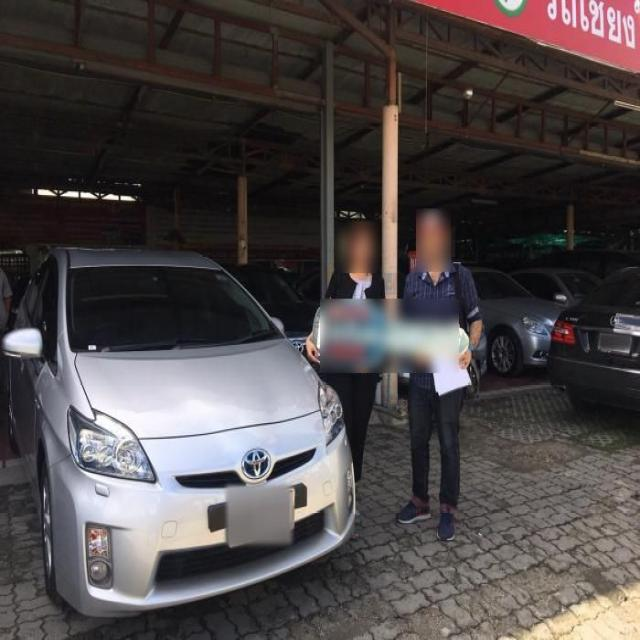front_bumper: (47, 411, 356, 619)
front_glass: (66, 265, 286, 351)
front_left_light: (320, 379, 344, 446)
front_right_door: (15, 253, 61, 488)
front_right_light: (67, 404, 157, 483)
hood: (74, 340, 320, 440)
right_mirror: (1, 329, 44, 359)
wheel: (41, 459, 54, 596)
